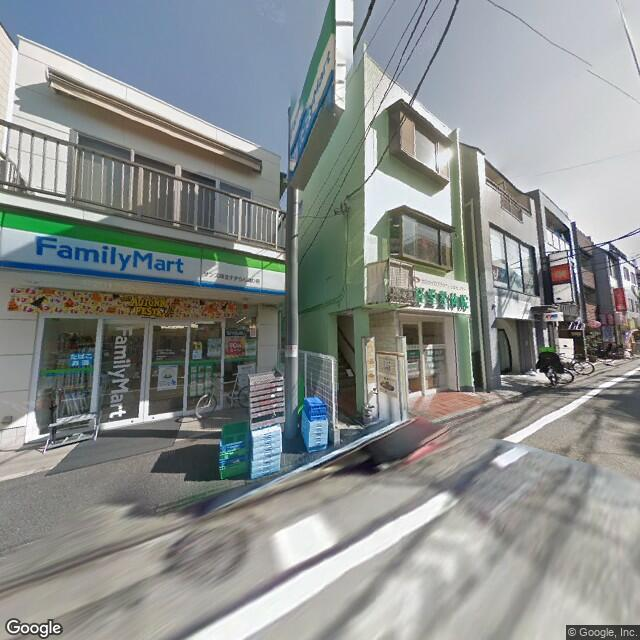family_mart: (1, 208, 284, 298), (30, 228, 185, 283), (299, 2, 340, 144), (105, 322, 128, 422)
